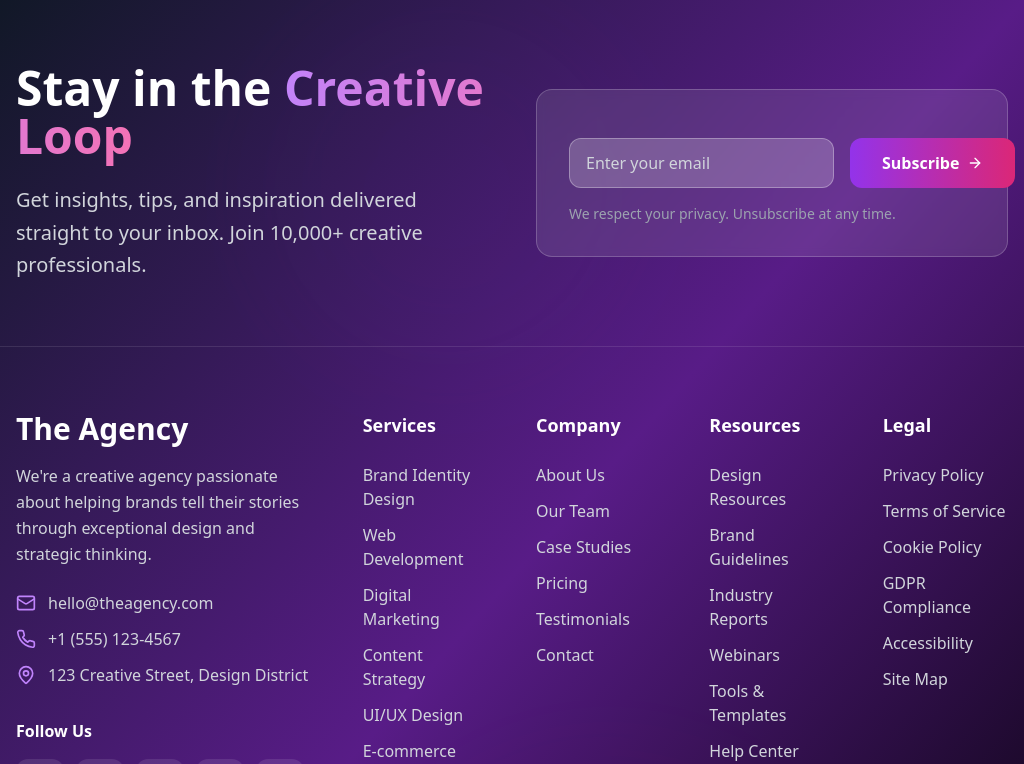
Test: EnhancedFooter newsletter › clears the error once the user edits the field
Later steps or results of the test are not shown.
Click the button "Subscribe": coordinates (933, 163) x1=850 y1=138 x2=1015 y2=188
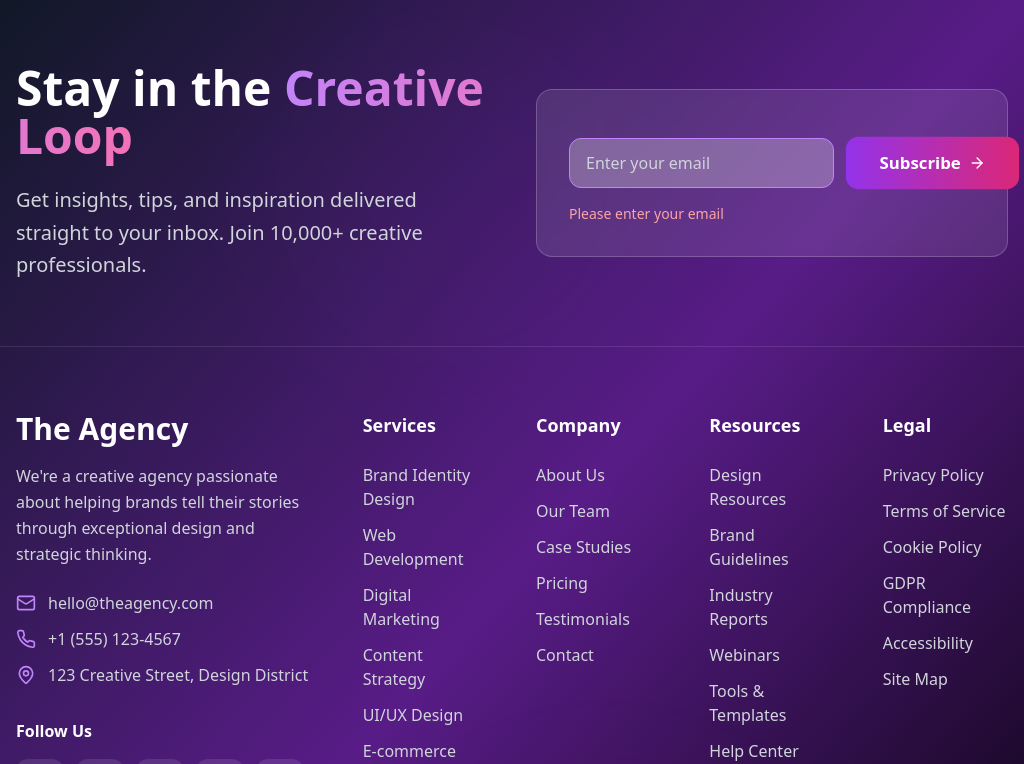
expect the message reads "Please enter your email": met, box x1=569 y1=204 x2=724 y2=223
